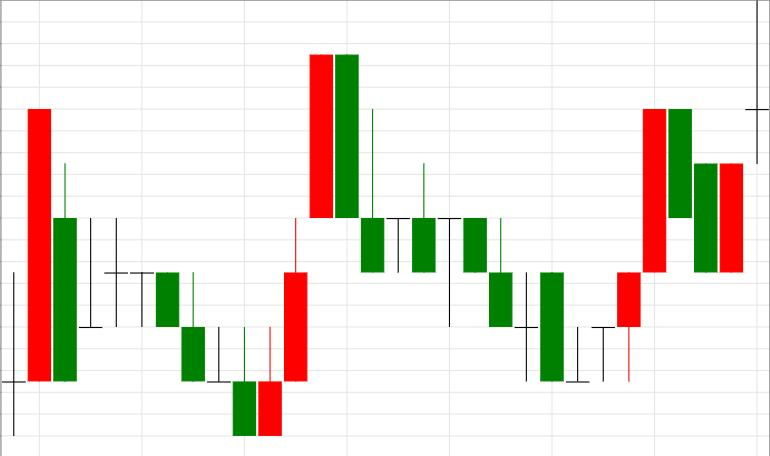bearish_engulfing_fall: (233, 55, 360, 436)
three_white_soldiers_rise: (105, 55, 332, 436)
